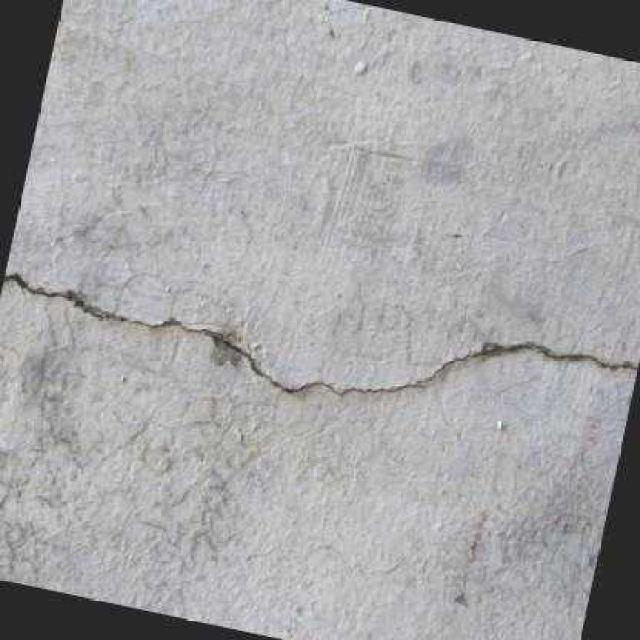D00: (2, 272, 427, 393), (416, 342, 637, 380)
